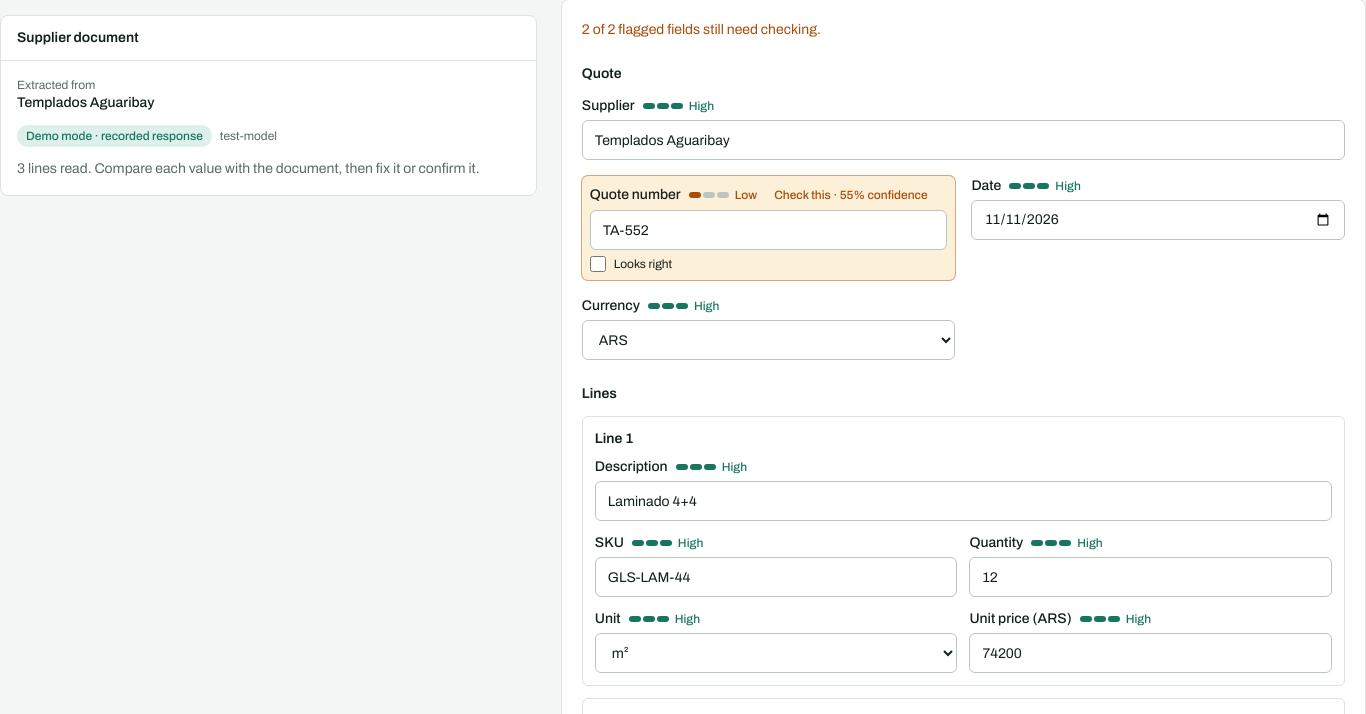
ReviewForm › keeps import disabled until every flagged field is checked
Click the checkbox named "Looks right: Quote number". click: (598, 264)
box: [590, 256, 606, 272]
(page scrolled)
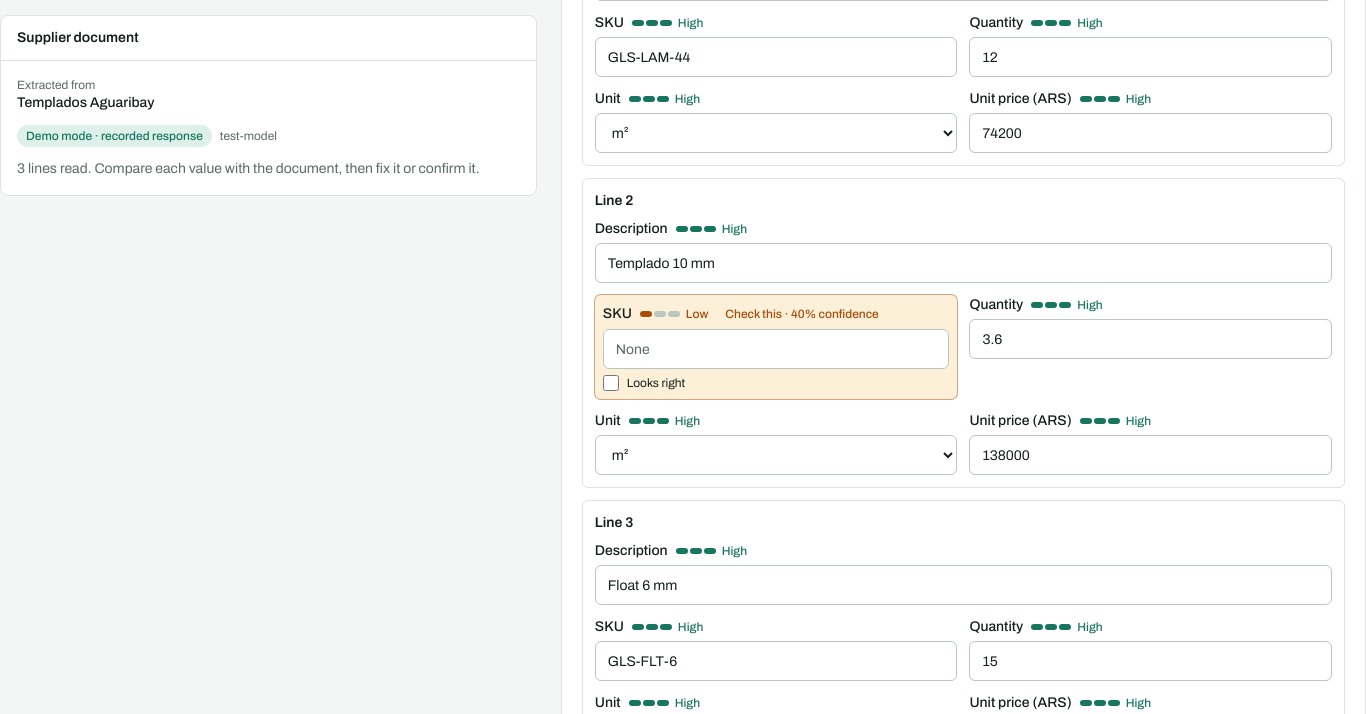
Click the checkbox named "Looks right: SKU". click: (611, 383)
box: [603, 375, 619, 391]
(page scrolled)
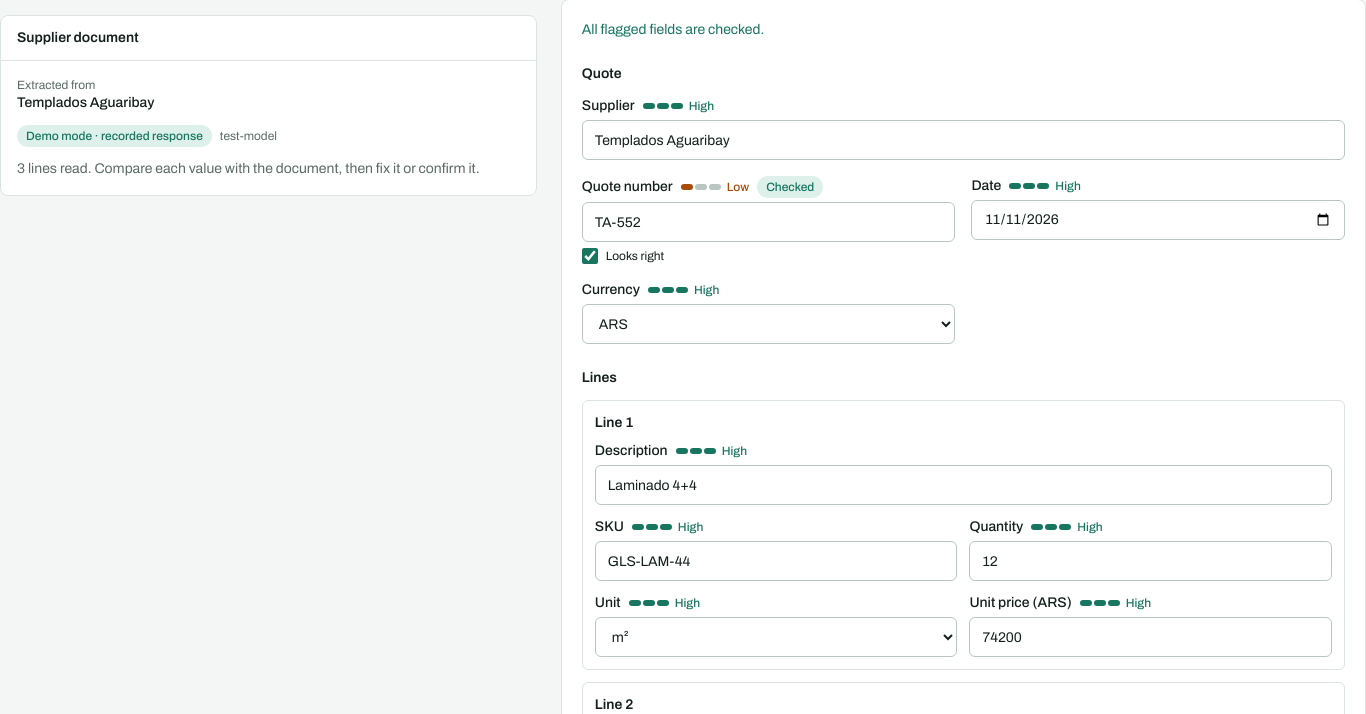
Expected: the message shows "All flagged fields are checked", [582, 22, 764, 37]
